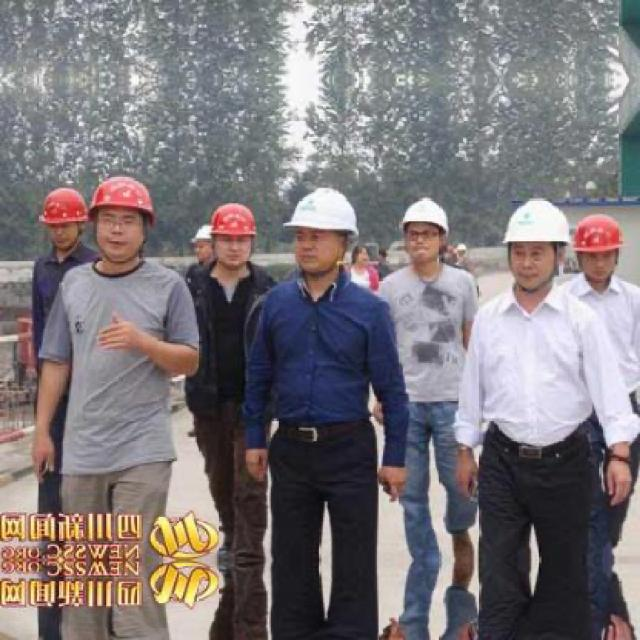con casco: (235, 166, 388, 304), (0, 158, 170, 280), (0, 153, 147, 284), (363, 183, 466, 278), (551, 182, 640, 290), (185, 204, 243, 250)
